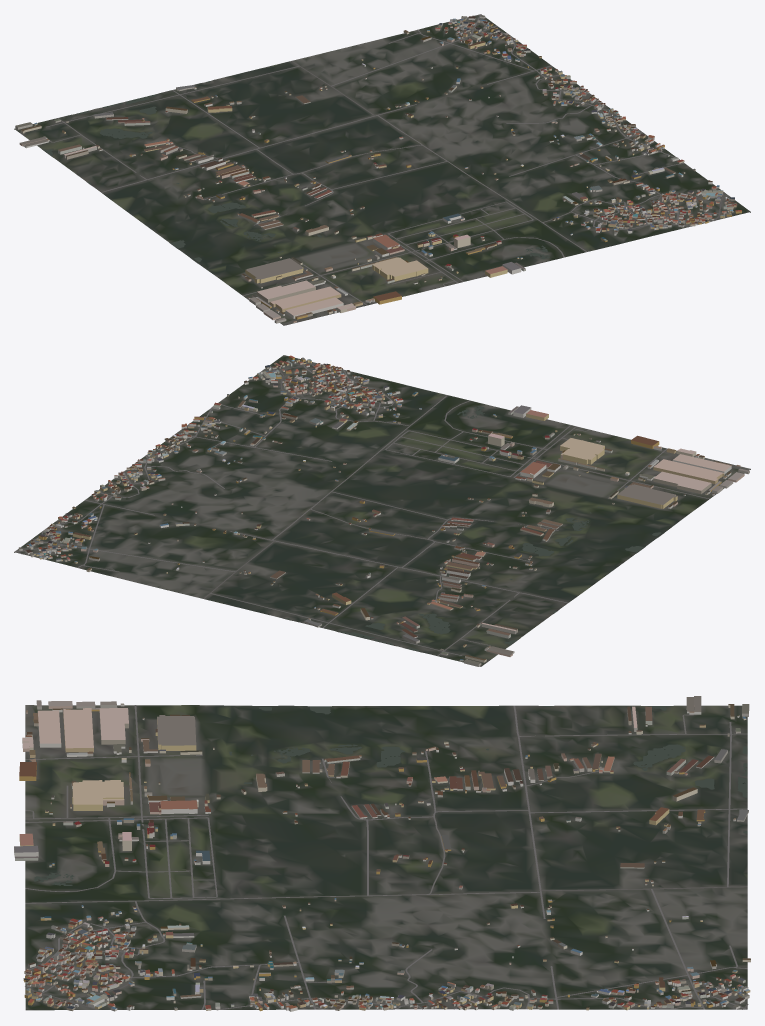
3 renders of one model, top to bottom at view 1: azimuth 30°, elevation 25°; view 2: azimuth 150°, elevation 25°; view 3: azimuth 270°, elevation 25°, orthographic. The views are drawn at different scales.
Parts seen in each view (by area): view 1: ground, buildings, roads, water; view 2: ground, buildings, roads, water; view 3: ground, buildings, roads, water.
Boxes of the visible parts, bbox=[...] form: ground: bbox=[14, 14, 750, 325]; buildings: bbox=[15, 15, 741, 323]; roads: bbox=[46, 14, 724, 305]; water: bbox=[43, 81, 549, 261]; ground: bbox=[14, 355, 750, 666]; buildings: bbox=[18, 355, 749, 666]; roads: bbox=[14, 364, 709, 655]; water: bbox=[285, 406, 660, 651]; ground: bbox=[25, 705, 747, 1010]; buildings: bbox=[14, 696, 750, 1011]; roads: bbox=[25, 705, 748, 1010]; water: bbox=[34, 706, 747, 885].
Size of the model in its own units: 1445 by 27.65 by 1430.
